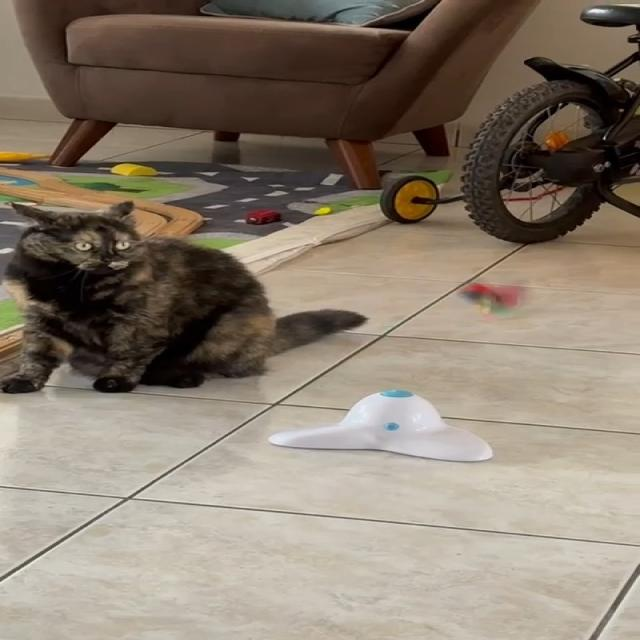authorized: (0, 199, 368, 394)
